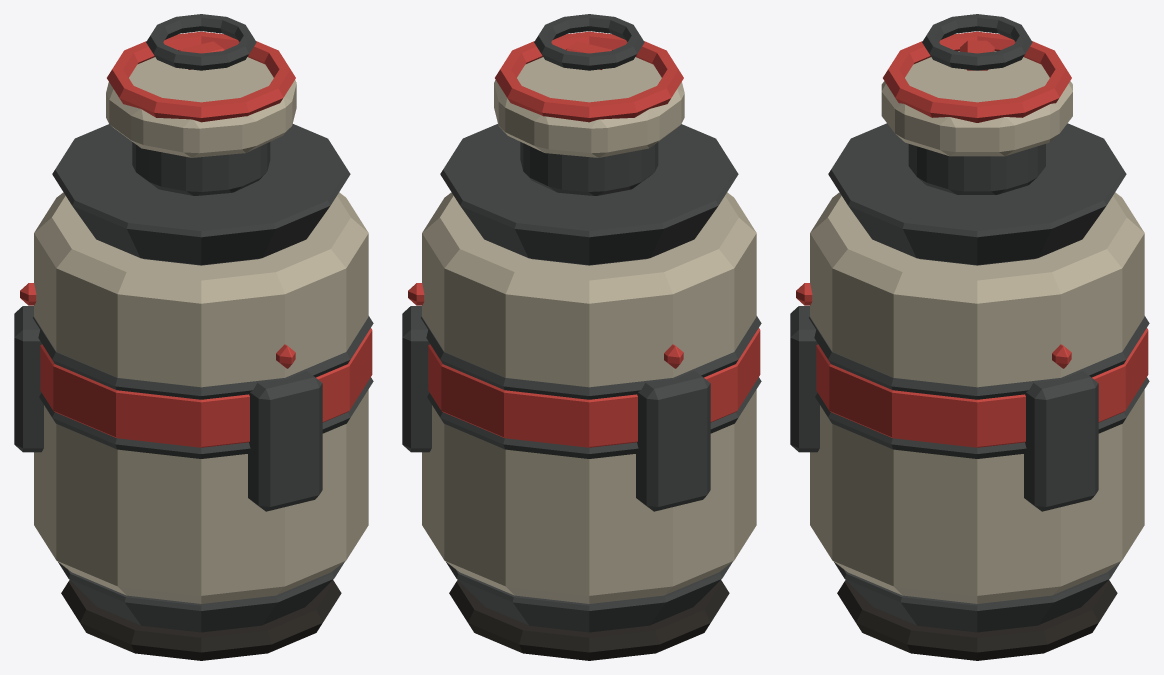
Rendered from SplitBomb.fbx.
The picture shows the model from 3 angles, left to right: view 1: azimuth 30°, elevation 25°; view 2: azimuth 150°, elevation 25°; view 3: azimuth 270°, elevation 25°; orthographic projection.
Parts seen in each view (by area): view 1: Body, TopShoulder, RedSplitBand, Cap, Segment_3, BottomRubber, BottomShoulder, CapRing, Neck, BandTop, Segment_2, TopRing (+1 smaller); view 2: Body, TopShoulder, RedSplitBand, Cap, Segment_2, BottomRubber, BottomShoulder, CapRing, Neck, BandTop, Segment_1, TopRing (+1 smaller); view 3: Body, TopShoulder, RedSplitBand, Cap, Segment_1, BottomRubber, BottomShoulder, CapRing, Neck, BandTop, Segment_3, TopRing (+1 smaller).
Part boxes in pixels (left/top/right/bottom): Body: left=34, top=192, right=368, bottom=603; TopShoulder: left=52, top=124, right=350, bottom=265; RedSplitBand: left=40, top=328, right=372, bottom=447; Cap: left=106, top=57, right=296, bottom=157; Segment_3: left=248, top=371, right=322, bottom=511; BottomRubber: left=61, top=580, right=341, bottom=660; BottomShoulder: left=58, top=562, right=344, bottom=632; CapRing: left=107, top=31, right=295, bottom=122; Neck: left=132, top=142, right=270, bottom=195; BandTop: left=33, top=316, right=373, bottom=399; Segment_2: left=14, top=306, right=43, bottom=452; TopRing: left=146, top=14, right=256, bottom=70; Body: left=422, top=192, right=756, bottom=603; TopShoulder: left=440, top=124, right=738, bottom=265; RedSplitBand: left=428, top=328, right=760, bottom=447; Cap: left=494, top=57, right=684, bottom=157; Segment_2: left=636, top=371, right=710, bottom=511; BottomRubber: left=449, top=580, right=729, bottom=660; BottomShoulder: left=446, top=562, right=732, bottom=632; CapRing: left=495, top=31, right=683, bottom=122; Neck: left=520, top=142, right=658, bottom=195; BandTop: left=421, top=316, right=761, bottom=399; Segment_1: left=402, top=306, right=431, bottom=452; TopRing: left=534, top=14, right=644, bottom=70; Body: left=810, top=192, right=1144, bottom=603; TopShoulder: left=828, top=123, right=1126, bottom=265; RedSplitBand: left=816, top=328, right=1148, bottom=447; Cap: left=881, top=51, right=1072, bottom=156; Segment_1: left=1024, top=371, right=1098, bottom=511; BottomRubber: left=837, top=580, right=1117, bottom=660; BottomShoulder: left=834, top=562, right=1120, bottom=632; CapRing: left=883, top=31, right=1071, bottom=122; Neck: left=908, top=144, right=1045, bottom=194; BandTop: left=809, top=316, right=1149, bottom=399; Segment_3: left=790, top=306, right=819, bottom=452; TopRing: left=922, top=14, right=1032, bottom=70.
Size of the model in its own units: 143 by 255 by 146.
